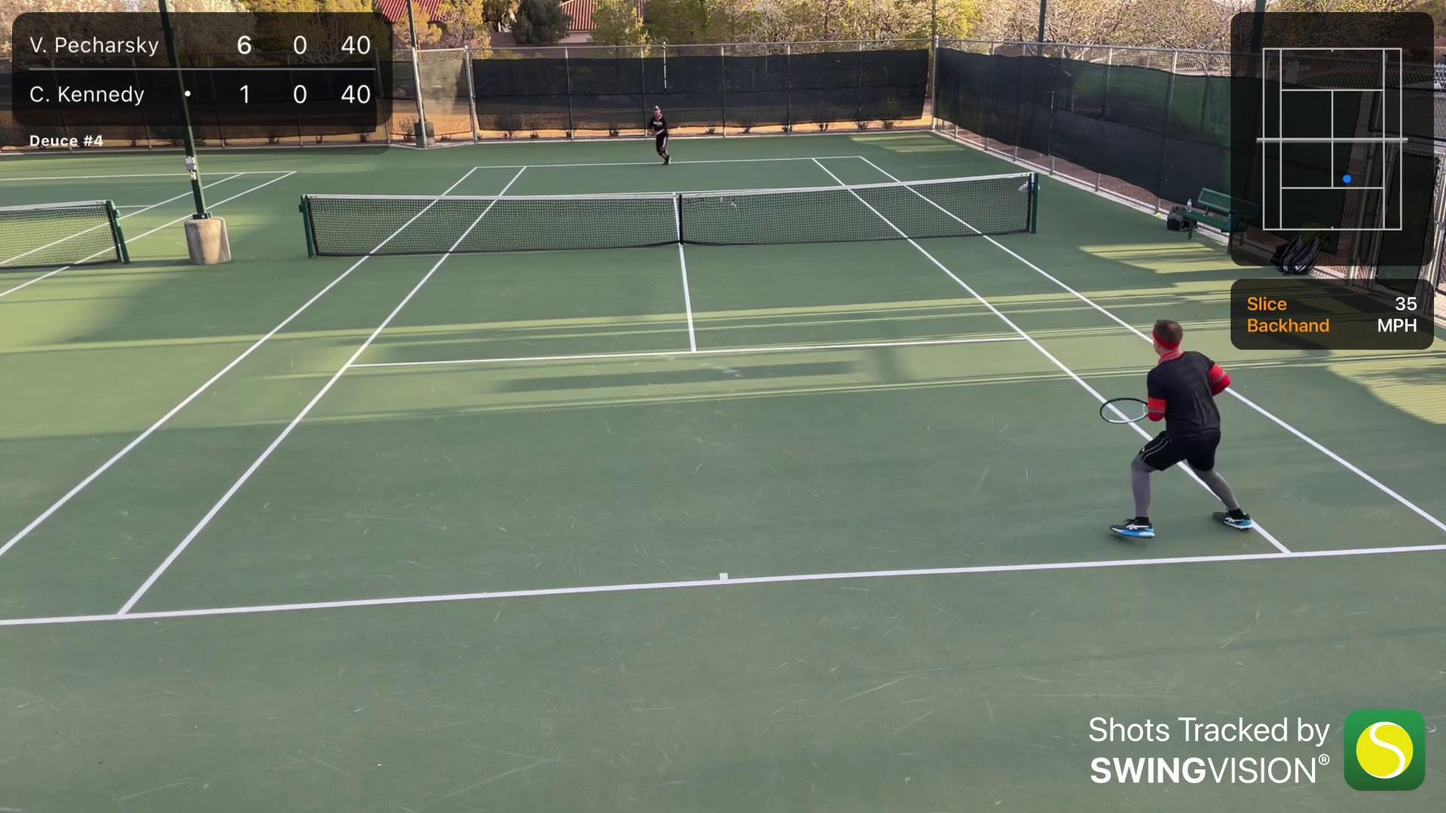ball: (677, 126, 683, 132)
